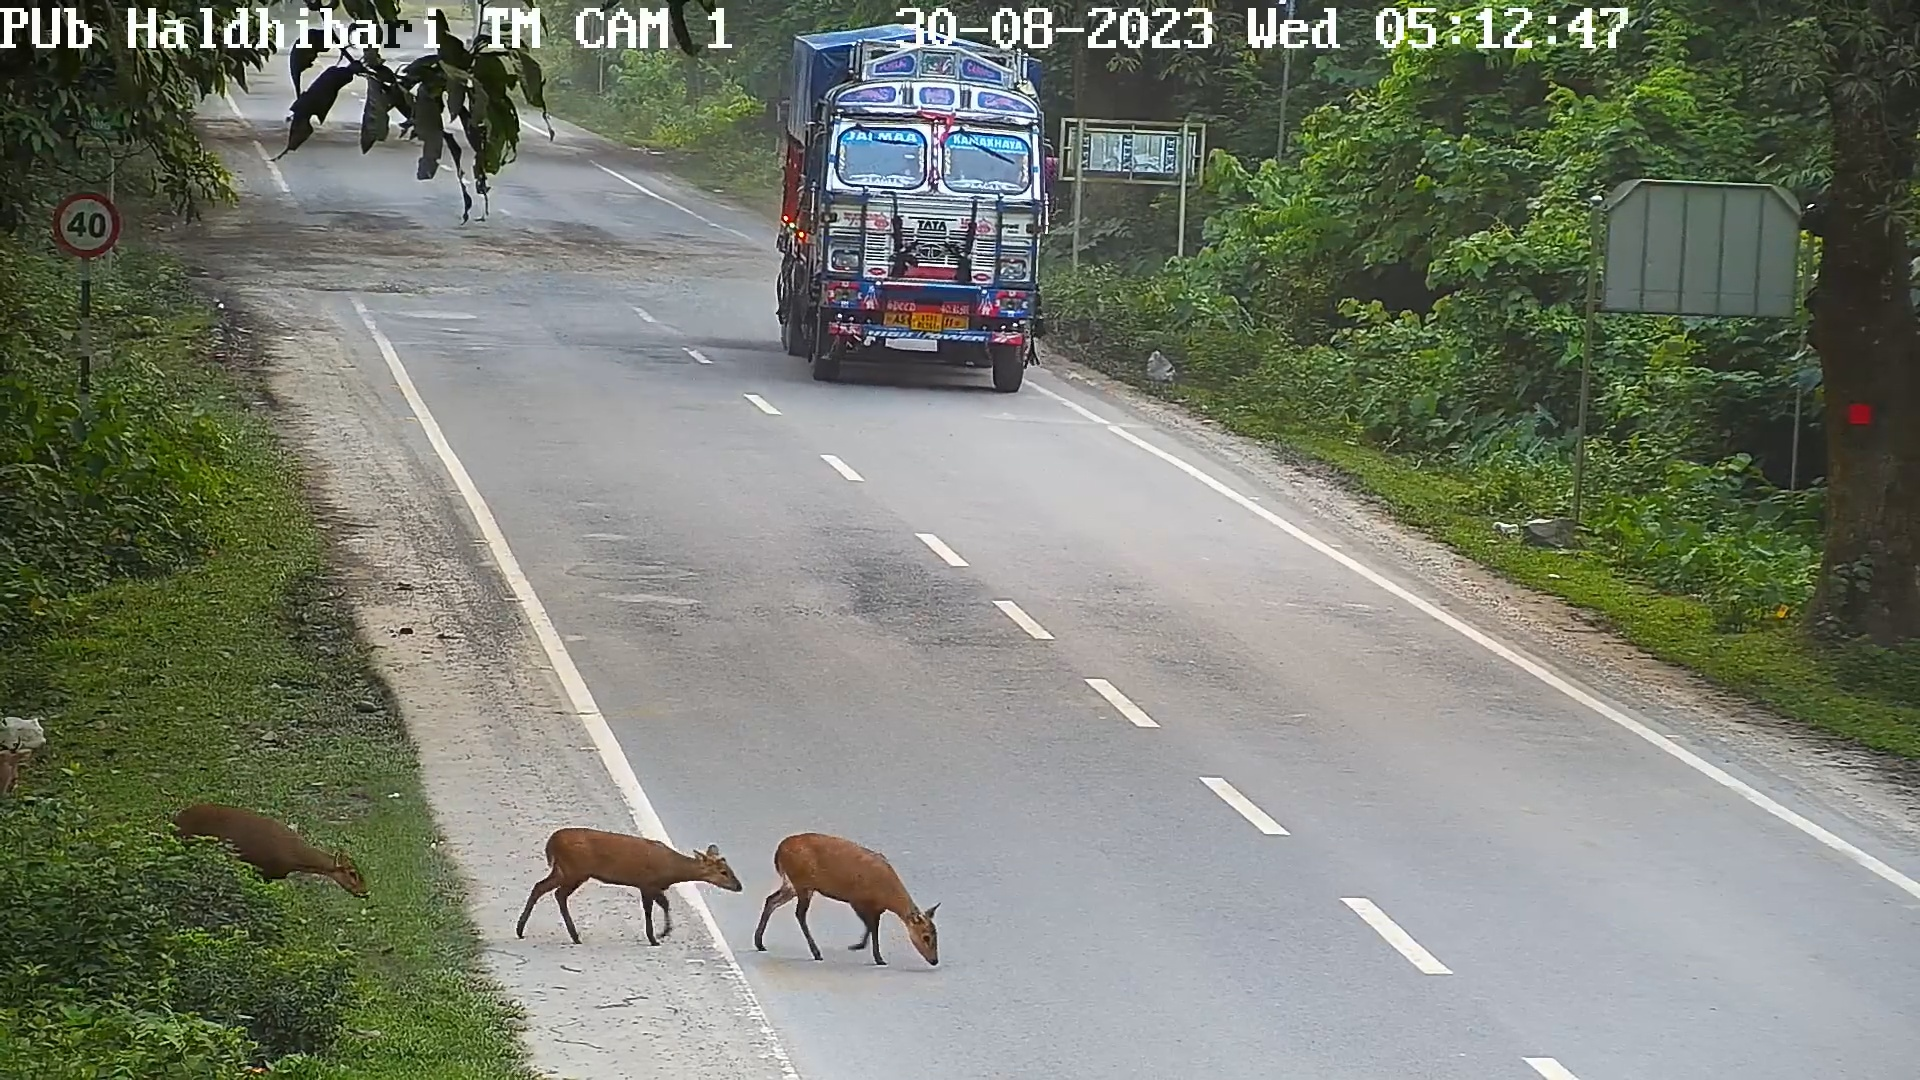deers: (542, 796, 740, 963), (164, 779, 371, 927), (765, 822, 943, 973)
